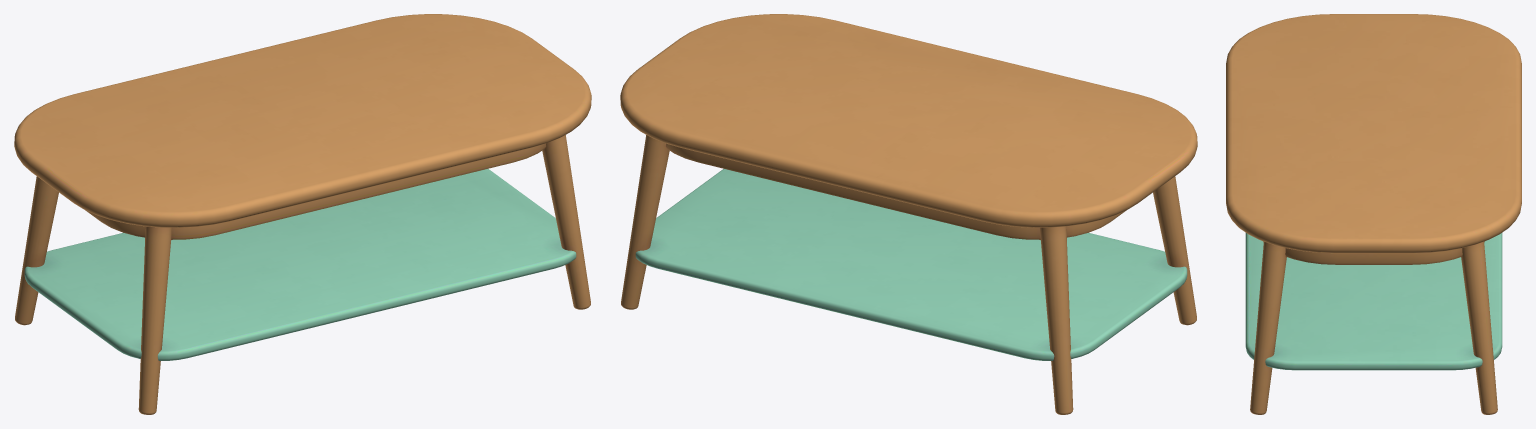
The model's file is coffee-table.glb.
3 views of the same model, side by side, from view 1: azimuth 30°, elevation 25°; view 2: azimuth 150°, elevation 25°; view 3: azimuth 270°, elevation 25° (orthographic). The views are drawn at different scales.
Visible parts, largest first — view 1: coffee-table_body; view 2: coffee-table_body; view 3: coffee-table_body.
Part boxes in pixels (x1,y1,x2,y2): coffee-table_body: (14, 14, 591, 414); coffee-table_body: (620, 14, 1197, 414); coffee-table_body: (1226, 14, 1521, 414).
Size of the model in its own units: 1.1 by 0.42 by 0.6.
1 material, 1 textured.
